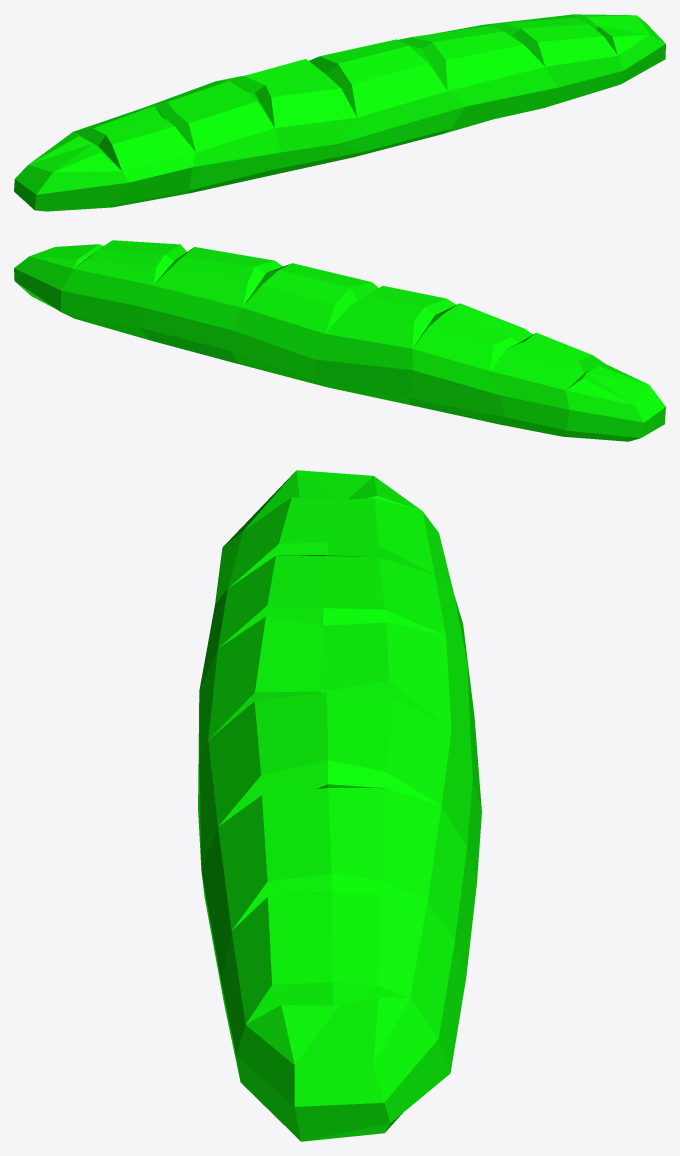
File: SM_Baguette.fbx
3 renders of one model, top to bottom at view 1: azimuth 30°, elevation 25°; view 2: azimuth 150°, elevation 25°; view 3: azimuth 270°, elevation 25°, orthographic. The views are drawn at different scales.
Parts seen in each view (by area): view 1: baguette; view 2: baguette; view 3: baguette.
Boxes of the visible parts, x1,y1,x2,y2 form: baguette: [14, 14, 665, 211]; baguette: [14, 240, 665, 441]; baguette: [198, 470, 481, 1141].
Bounding box in the file's own units: 0.5775 × 0.0641 × 0.1127.
